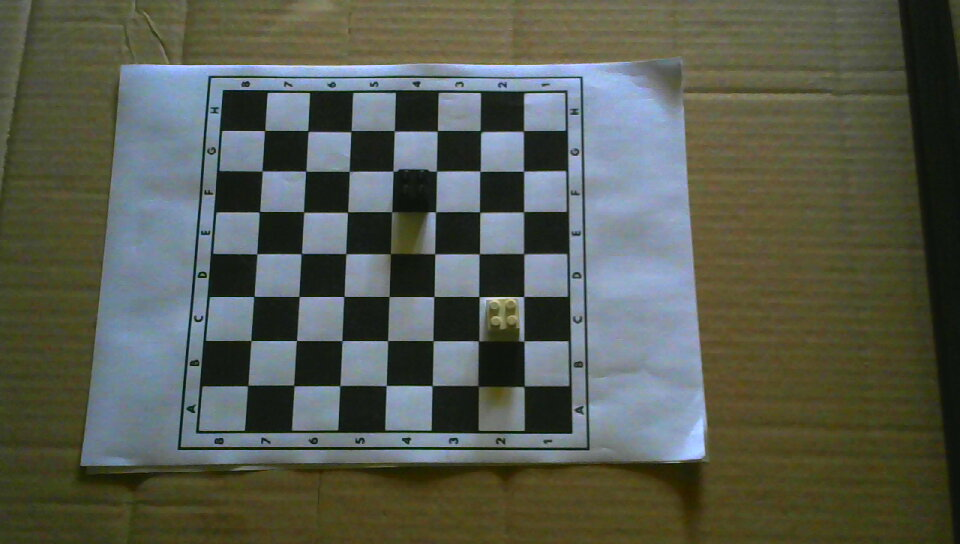bp: (394, 167, 434, 209)
wp: (485, 297, 522, 336)
